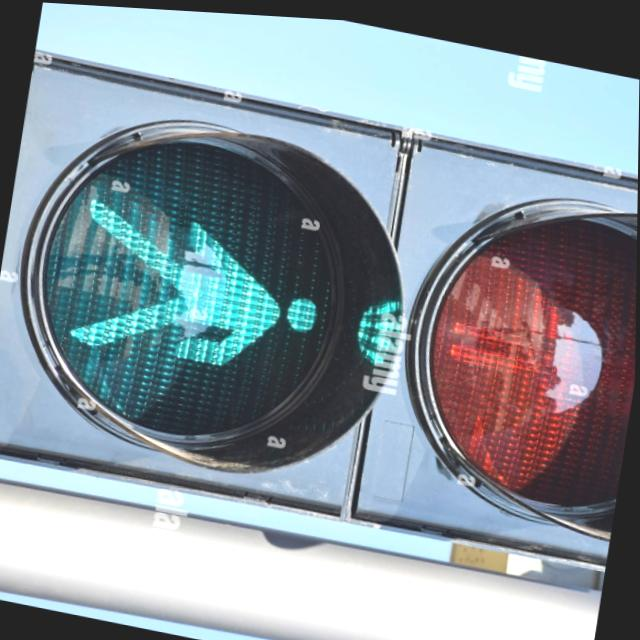green_light: (61, 202, 330, 387)
